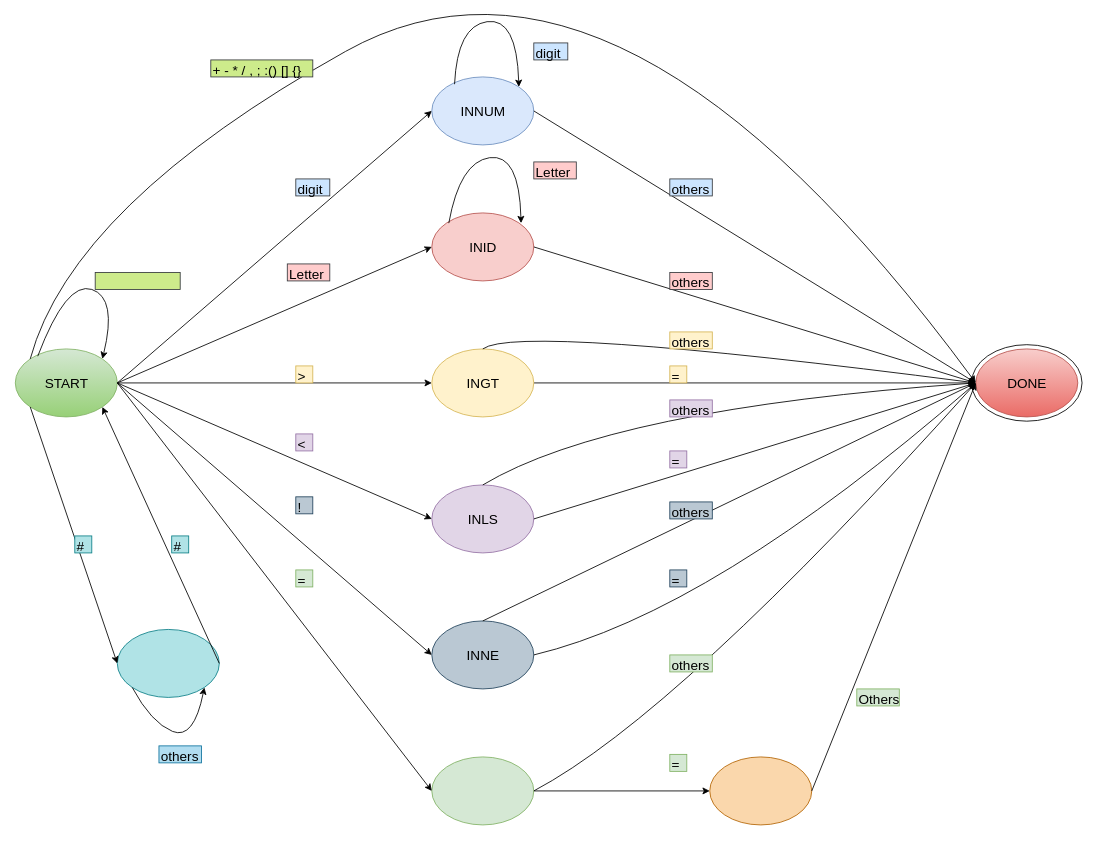
The diagram is 1097 pixels wide and 841 high, and some of its shapes have lost their labels. Here are the shapes that lost their labels. From the top down, the centre of each, then its label:
the point at 137,280: white space
the point at 167,663: INCOMMENT
the point at 482,790: INASSIGN
the point at 760,790: INEQ
